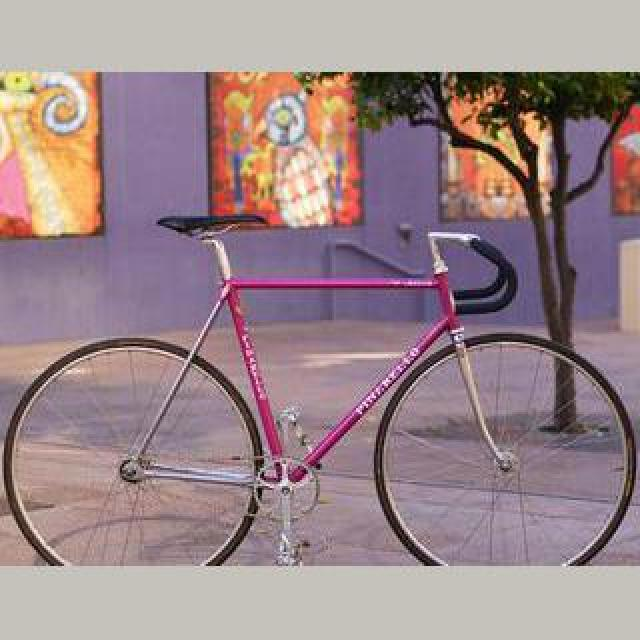Person: (4, 212, 638, 564)
